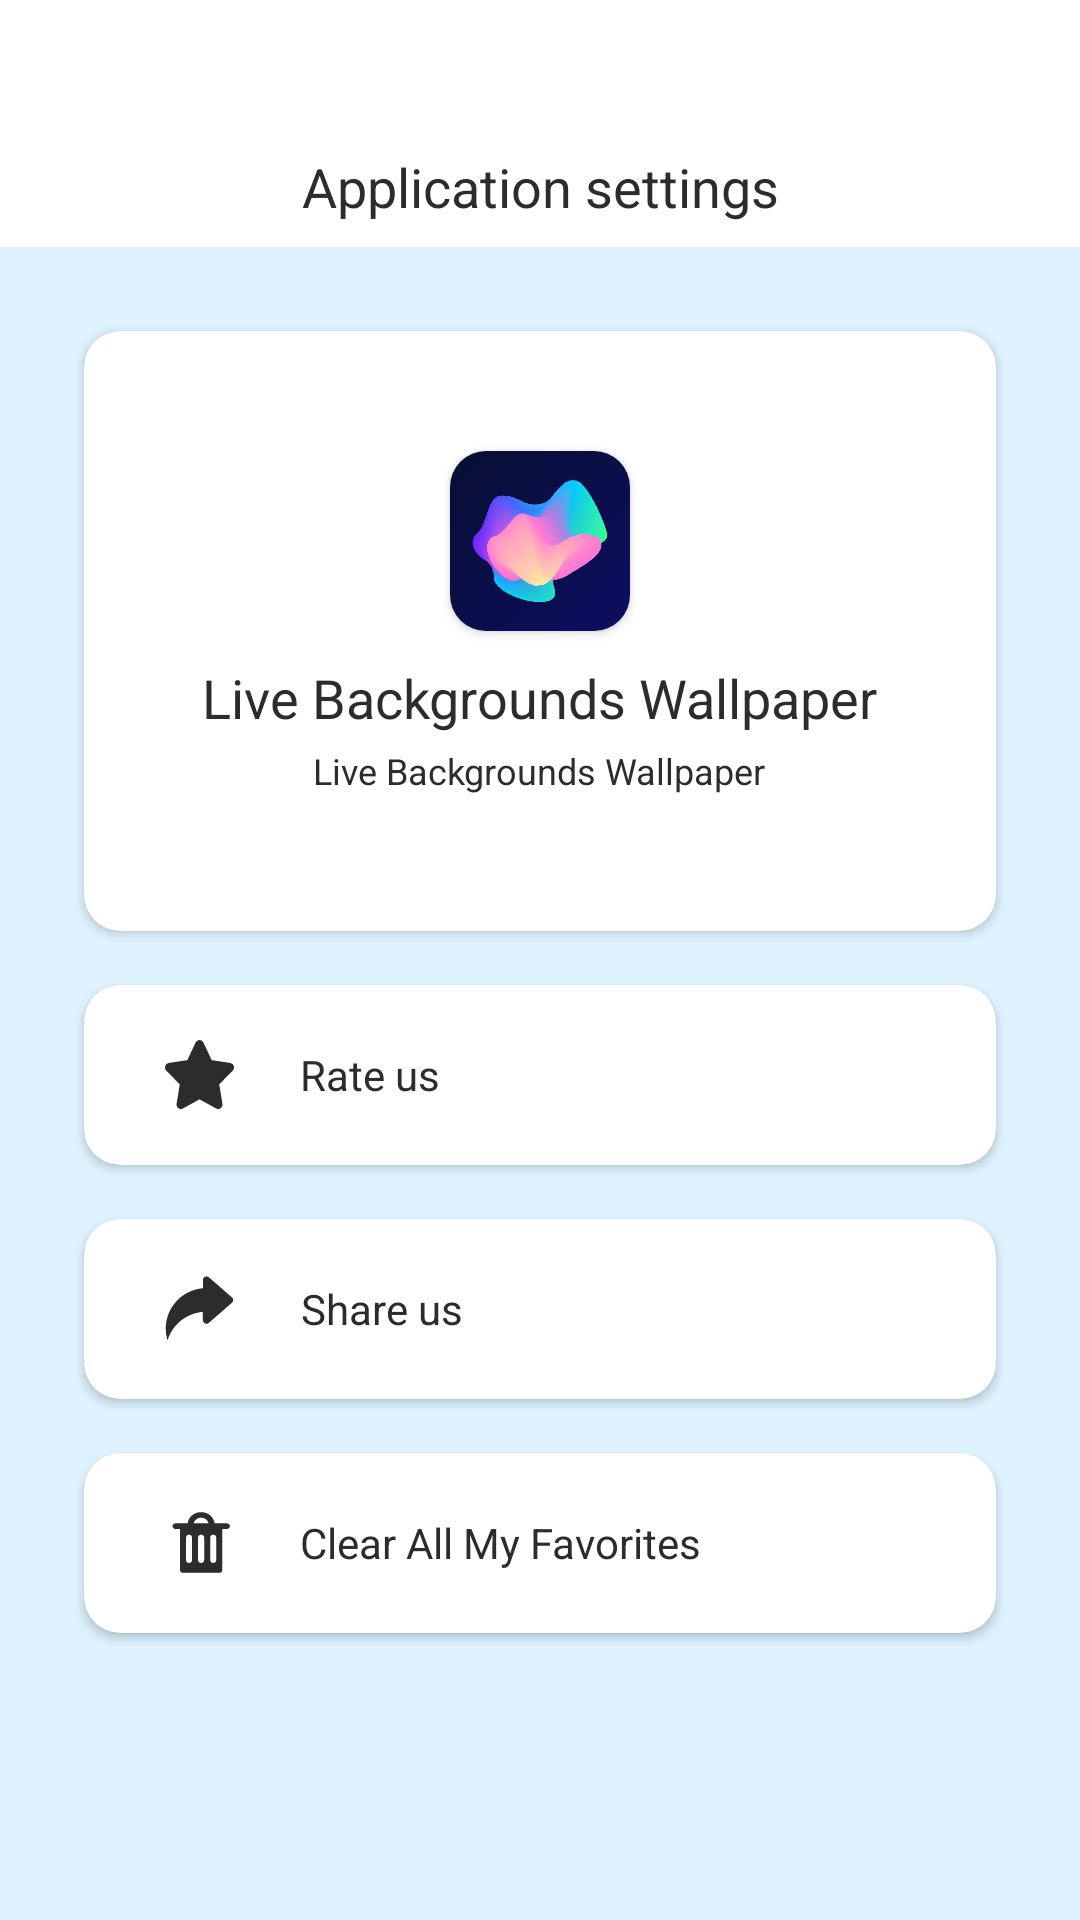

Named icons in this screenshot (1080*1920) and their centers, (x=x, y=y):
delete: (x=201, y=1542)
